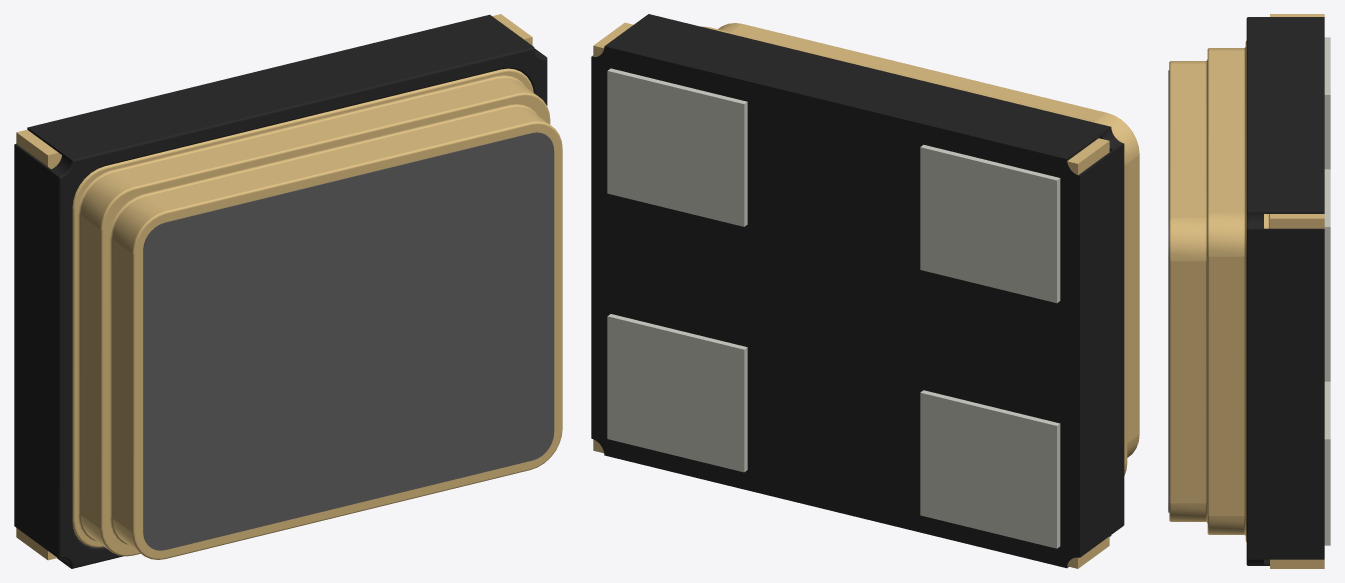
The model's file is Crystal_Crystal_SMD_2520-4Pin_2.5x2.0mm.glb.
3 renders of one model, left to right at view 1: azimuth 30°, elevation 25°; view 2: azimuth 150°, elevation 25°; view 3: azimuth 270°, elevation 25°, orthographic. The views are drawn at different scales.
Bounding box in the file's own units: 2.5 × 2 × 0.83.
